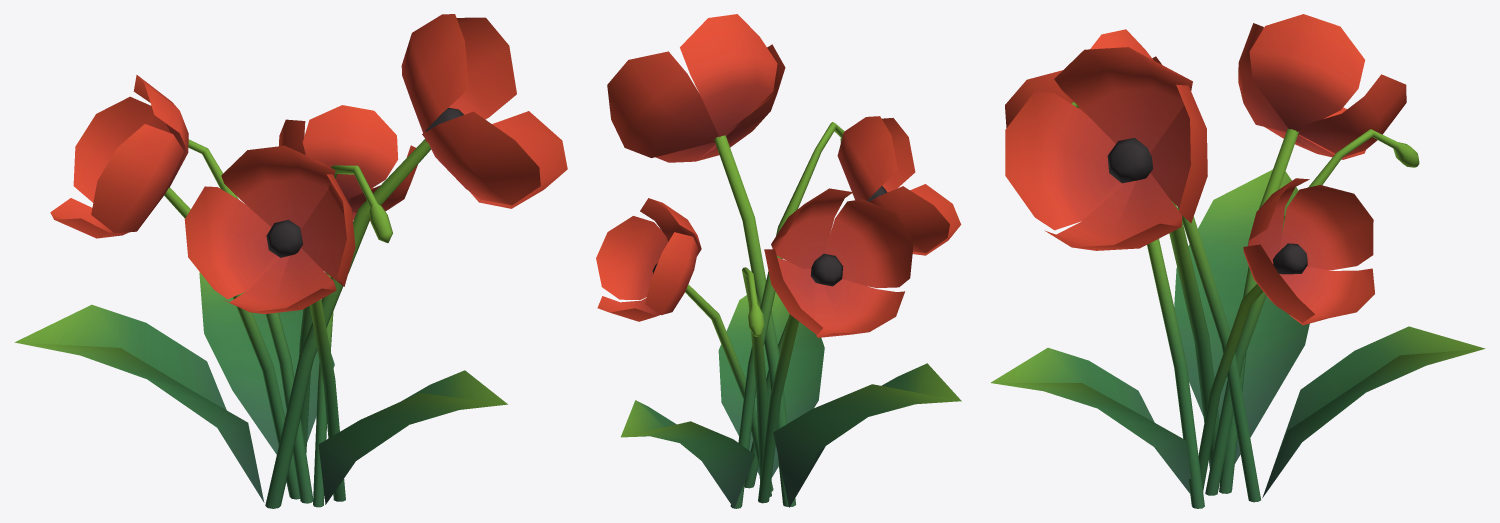
The model's file is flower_029_base_material_0.fbx.
The picture shows the model from 3 angles, left to right: view 1: azimuth 30°, elevation 25°; view 2: azimuth 150°, elevation 25°; view 3: azimuth 270°, elevation 25°; orthographic projection. The views are drawn at different scales.
Parts seen in each view (by area): view 1: flower_029_base_material_0; view 2: flower_029_base_material_0; view 3: flower_029_base_material_0.
Part boxes in pixels (x1,y1,x2,y2): flower_029_base_material_0: [14, 14, 567, 508]; flower_029_base_material_0: [596, 14, 961, 508]; flower_029_base_material_0: [990, 14, 1485, 508].
Size of the model in its own units: 2.93 by 2.66 by 2.95.
1 material, 1 textured.
